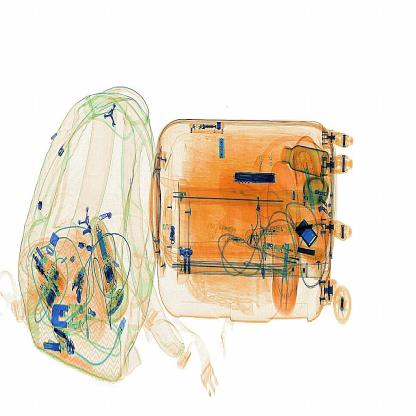scissors: (230, 166, 283, 192)
